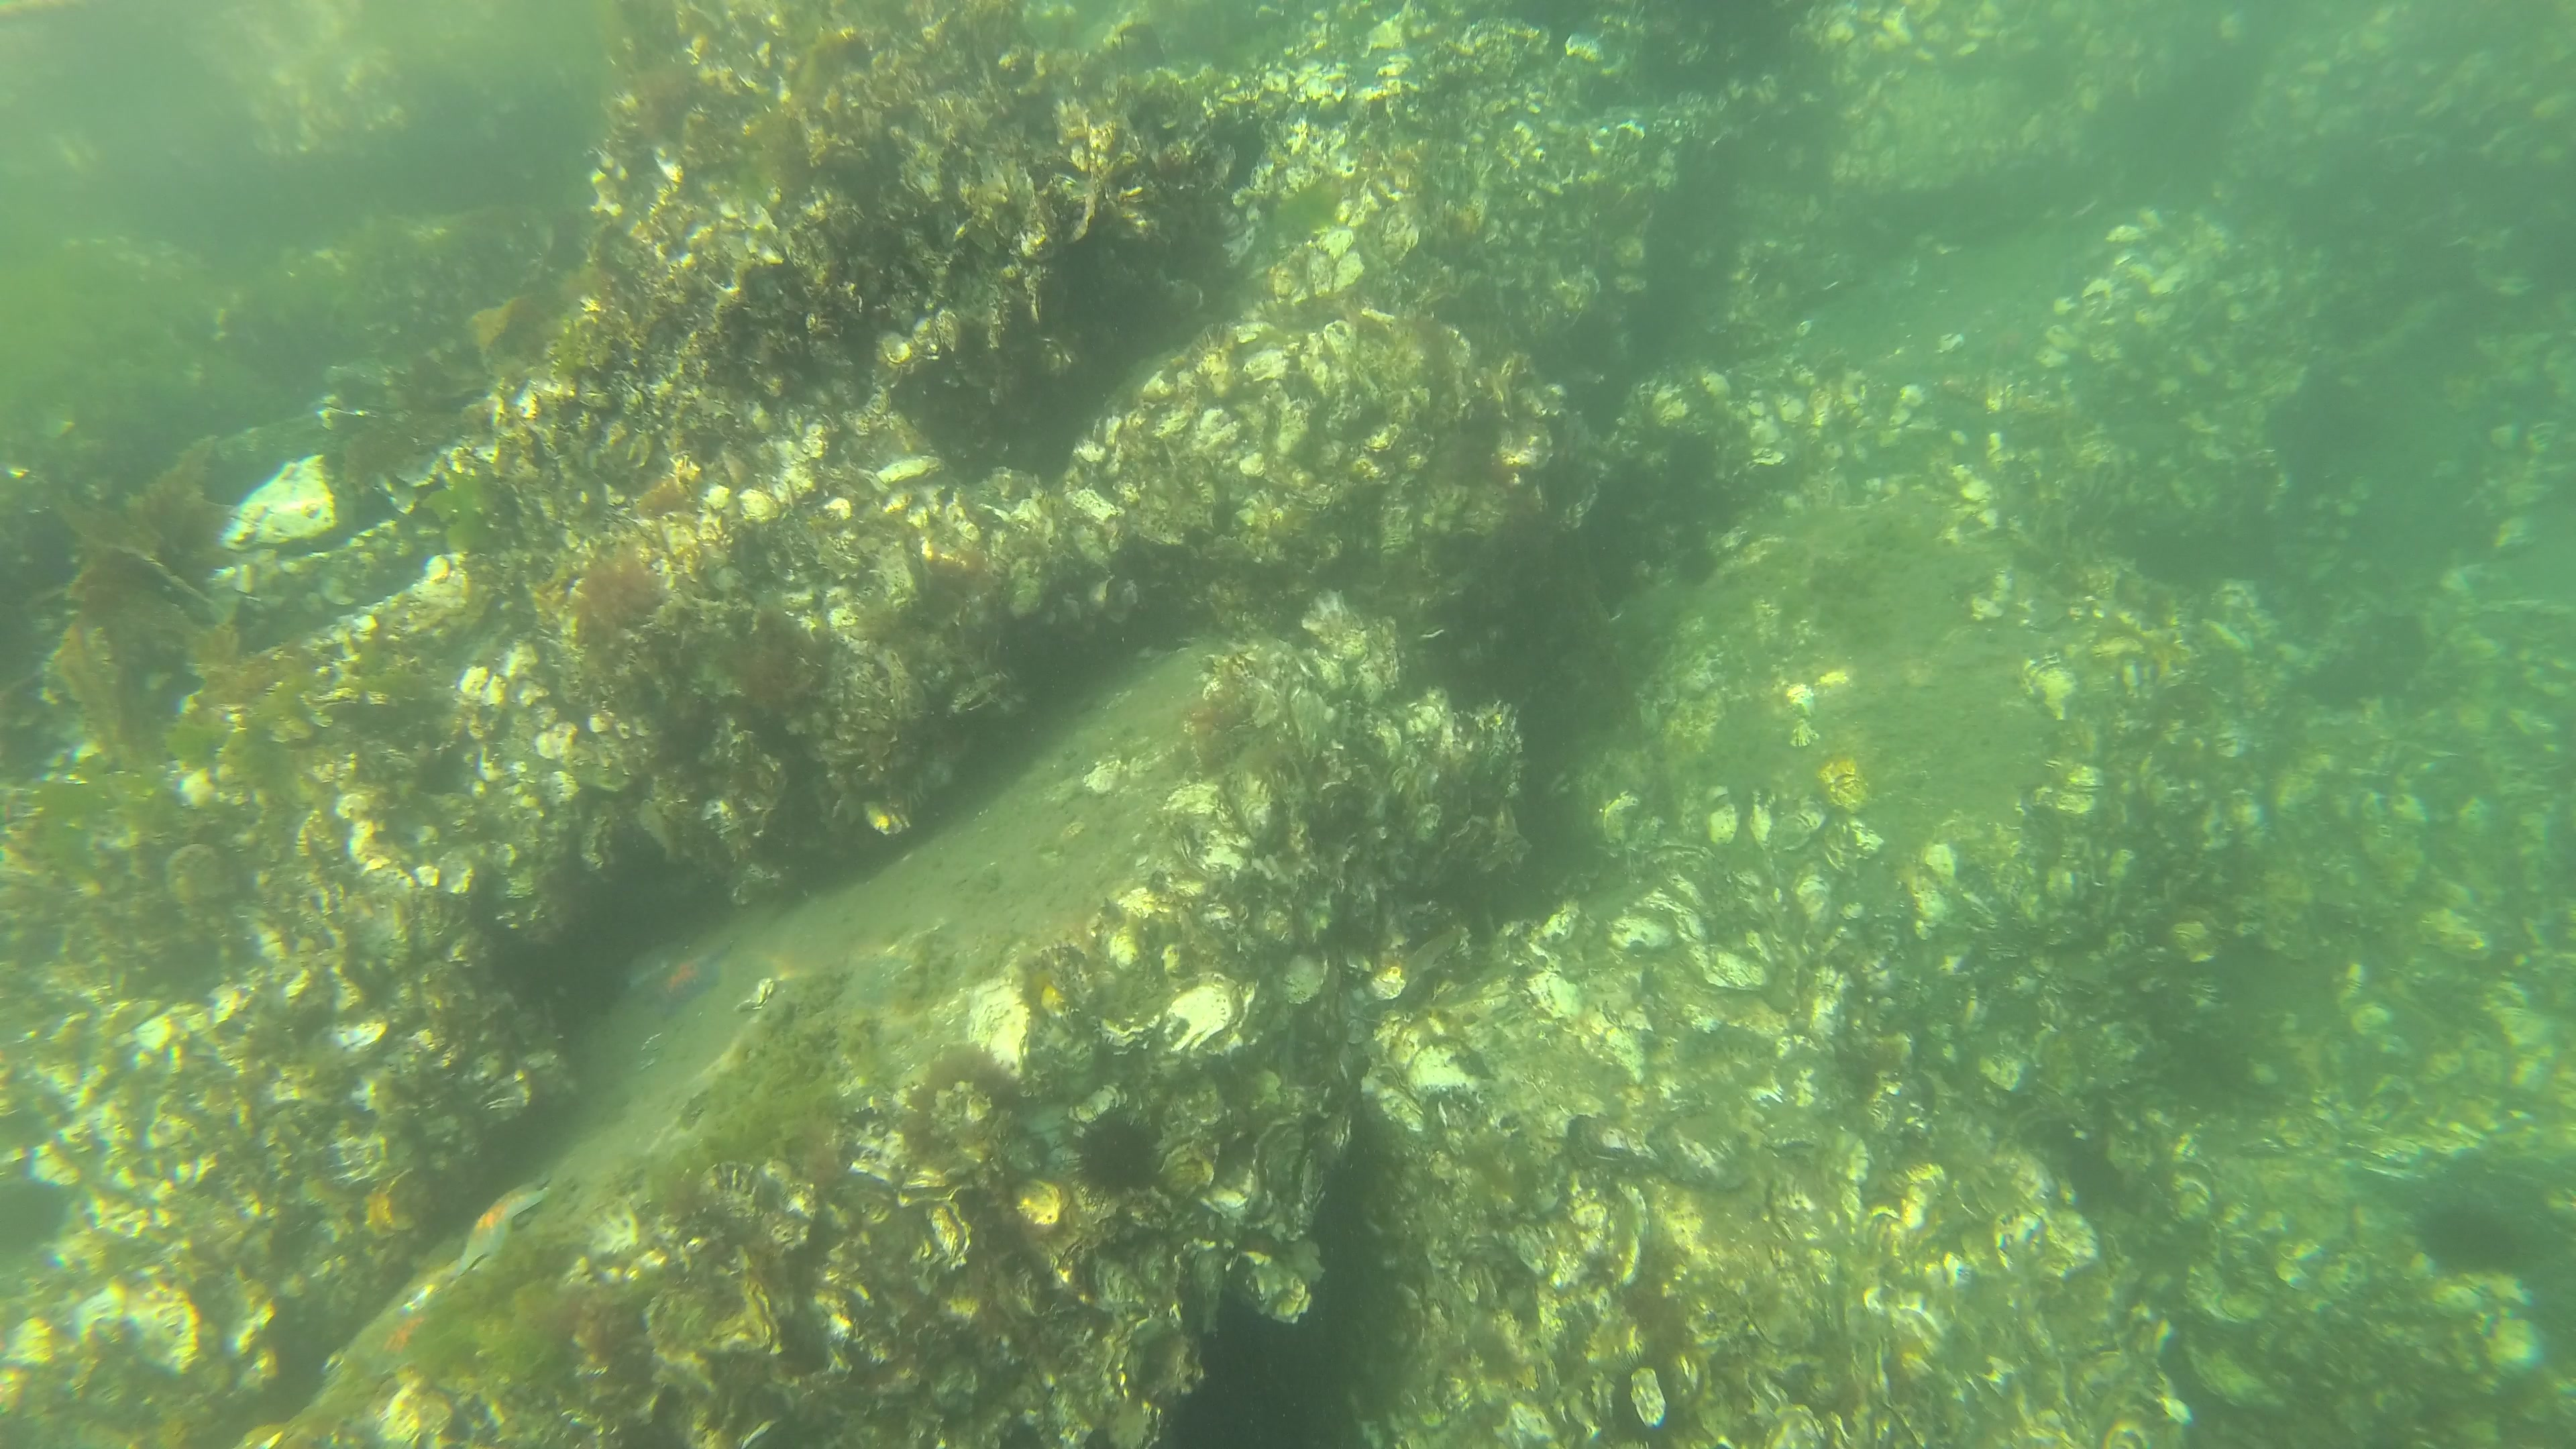echinus: (1062, 1106, 1166, 1210), (2411, 1201, 2507, 1277), (1661, 437, 1721, 492), (1674, 547, 1716, 587)
starfish: (453, 1173, 557, 1272), (354, 1286, 435, 1380), (646, 947, 722, 1024)
